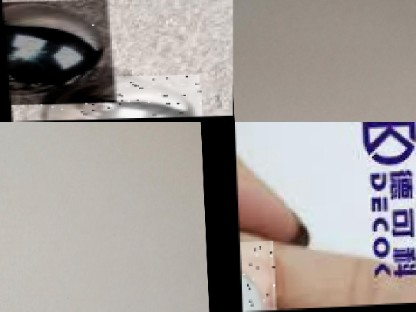ironball: (2, 0, 114, 105)
